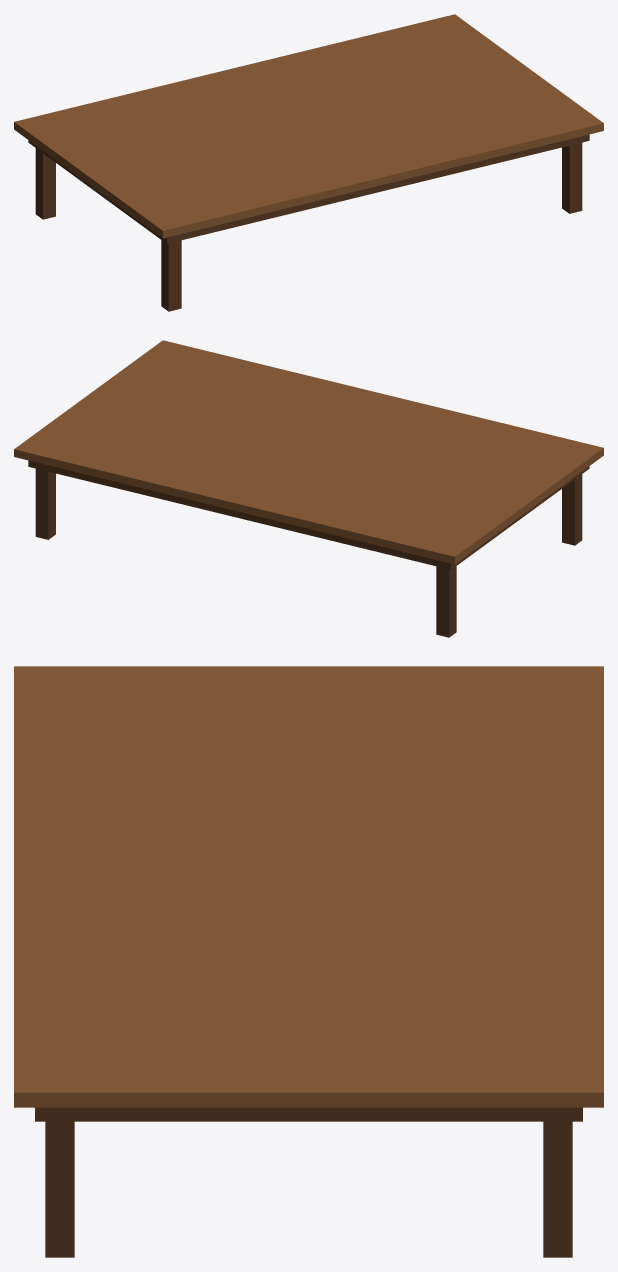
The model's file is table_dining.glb.
3 views of the same model, one above another, from view 1: azimuth 30°, elevation 25°; view 2: azimuth 150°, elevation 25°; view 3: azimuth 270°, elevation 25° (orthographic). The views are drawn at different scales.
Parts seen in each view (by area): view 1: table_dining; view 2: table_dining; view 3: table_dining.
Part boxes in pixels (box(x1,y1,x2,y2)): table_dining: box(14, 14, 603, 311); table_dining: box(14, 340, 603, 637); table_dining: box(14, 666, 603, 1257).
Size of the model in its own units: 4.82 by 0.94 by 2.82.
